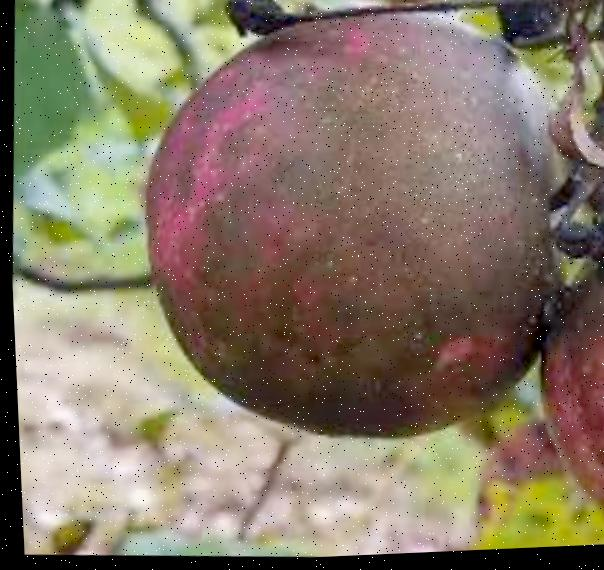BLOTCH: (86, 0, 604, 474)
